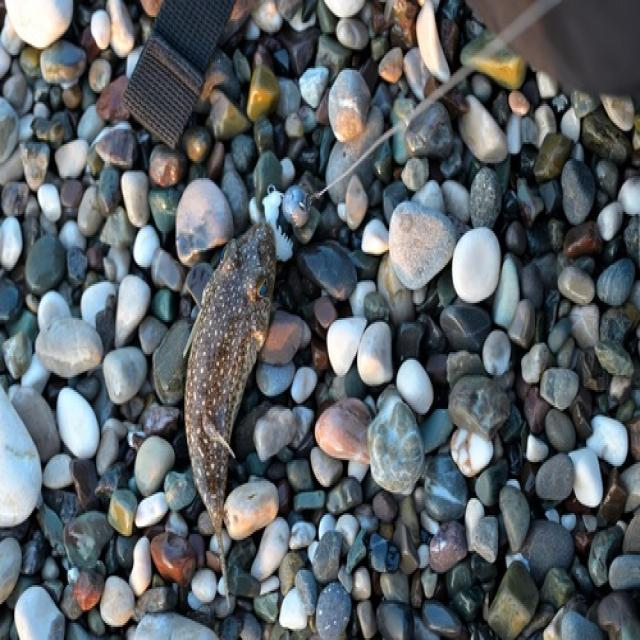Balik: (184, 222, 280, 547)
